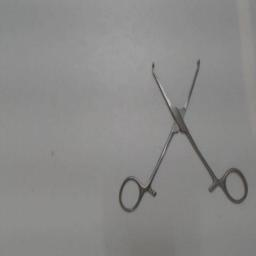Allis Tissue Forceps: (115, 50, 251, 218)
